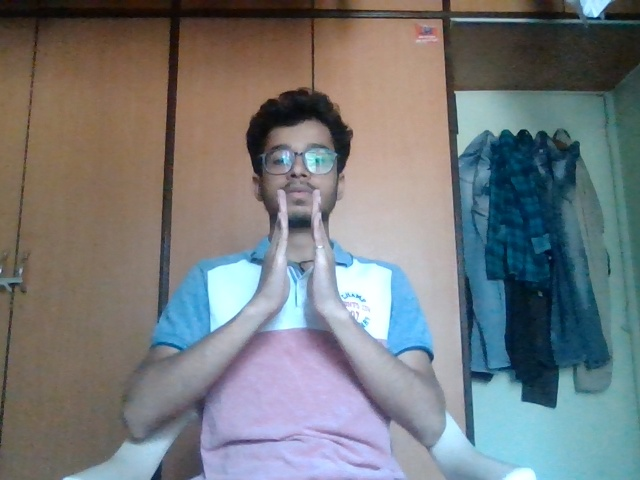morning: (255, 184, 351, 324)
